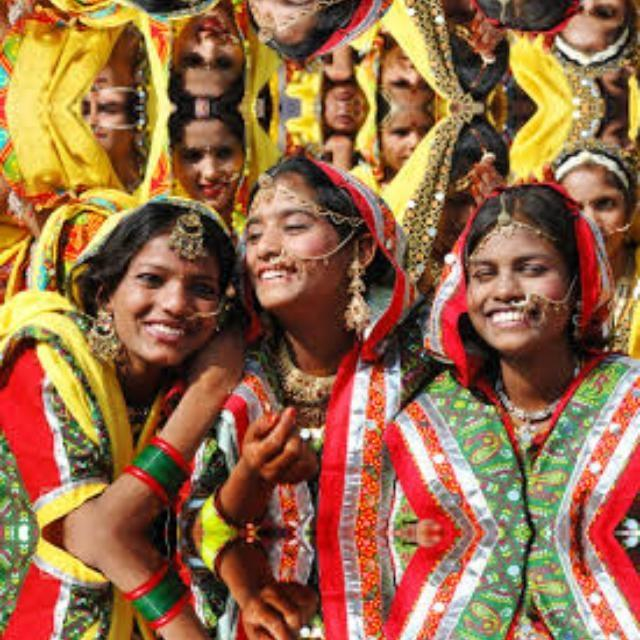person: (438, 168, 616, 390), (64, 158, 236, 386), (240, 140, 406, 374), (240, 0, 405, 73), (64, 0, 236, 56), (437, 0, 616, 45)
